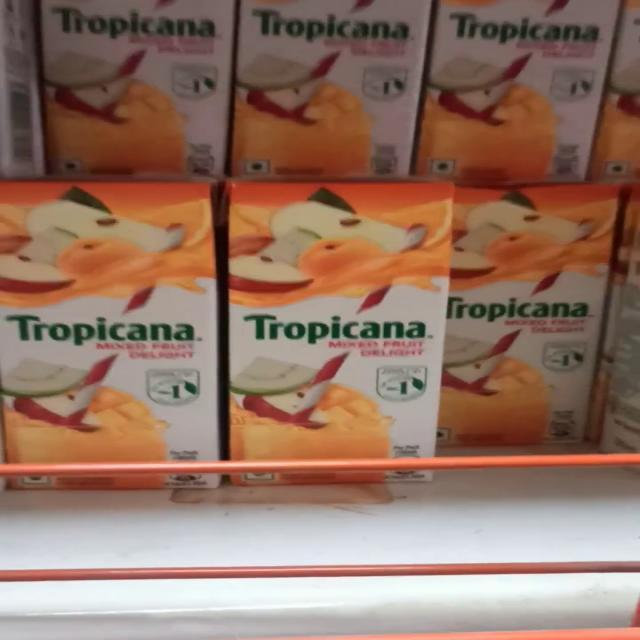Tropicana: (228, 178, 448, 504), (2, 184, 218, 494)
